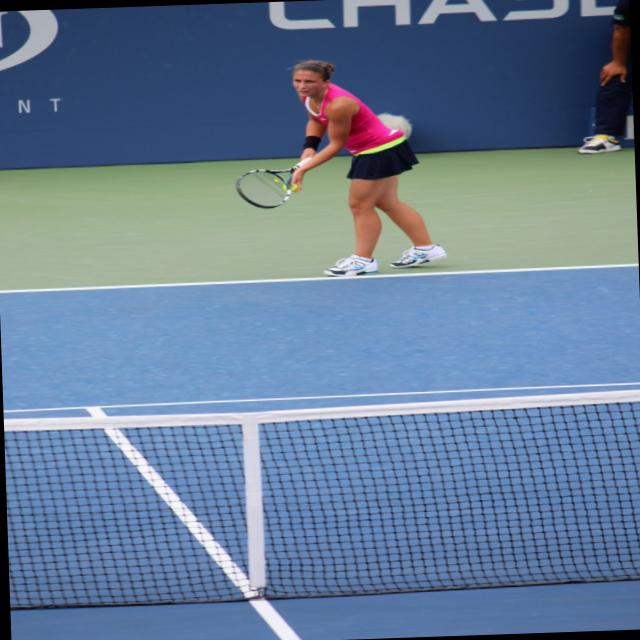Tennis ball: (283, 182, 297, 191)
